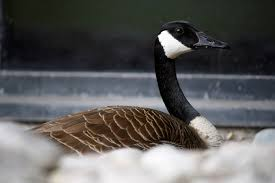goose: (22, 19, 232, 159)
